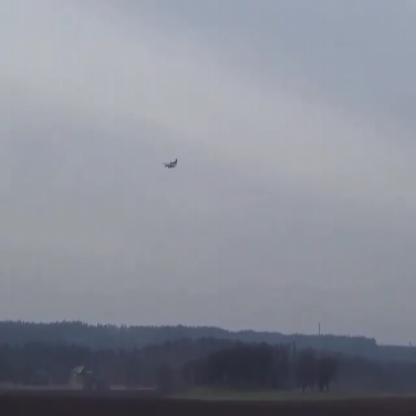CIV_Plane: (163, 158, 177, 168)
